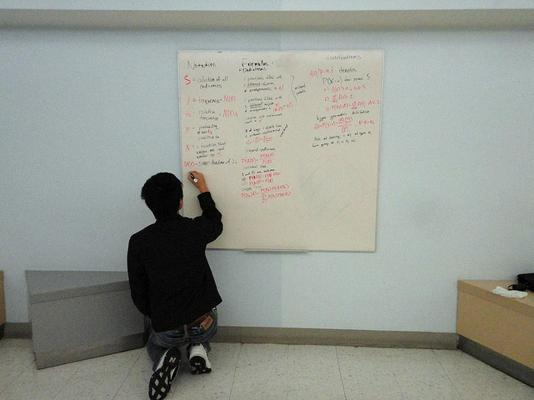person: (128, 172, 223, 400)
